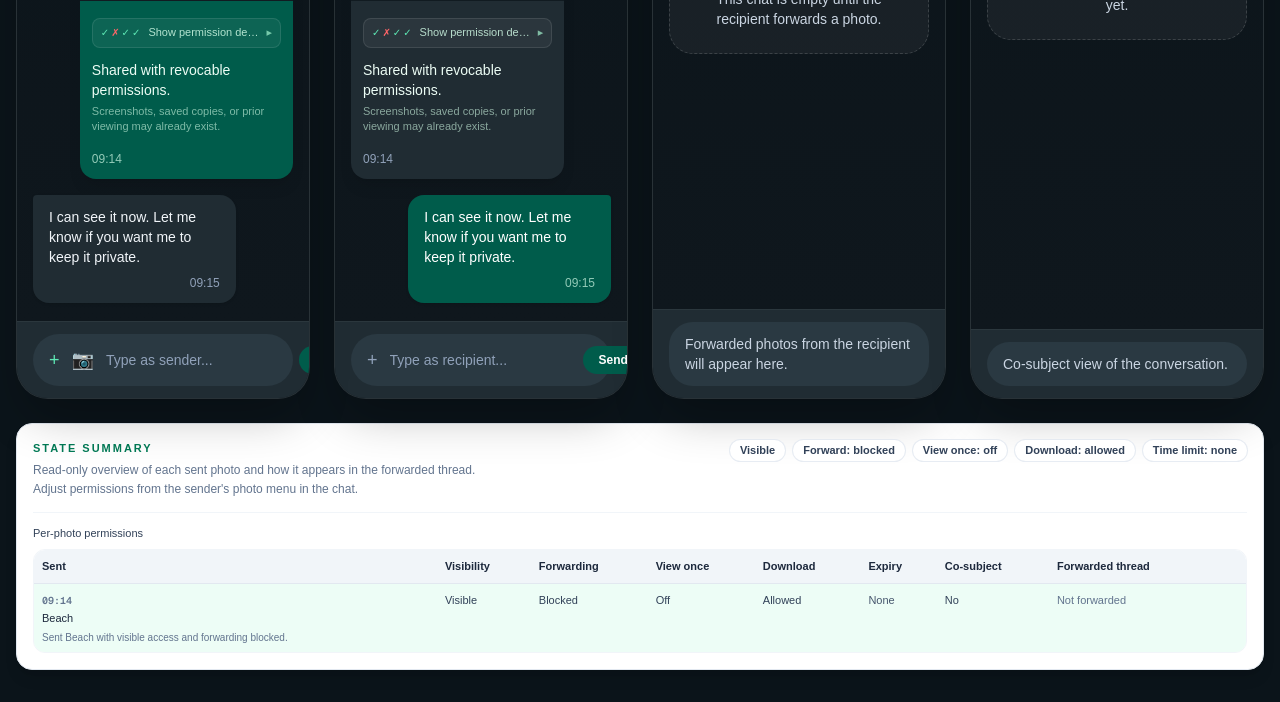
it: PhotoRevocationDemo › opens the composer and sends a configured preset photo
The image size is (1280, 702).
(page scrolled)
What coordinates should you click on to do the following:
click the button named "Open photo actions"
I would click on:
 (54, 360)
Its box is [49,346,60,374].
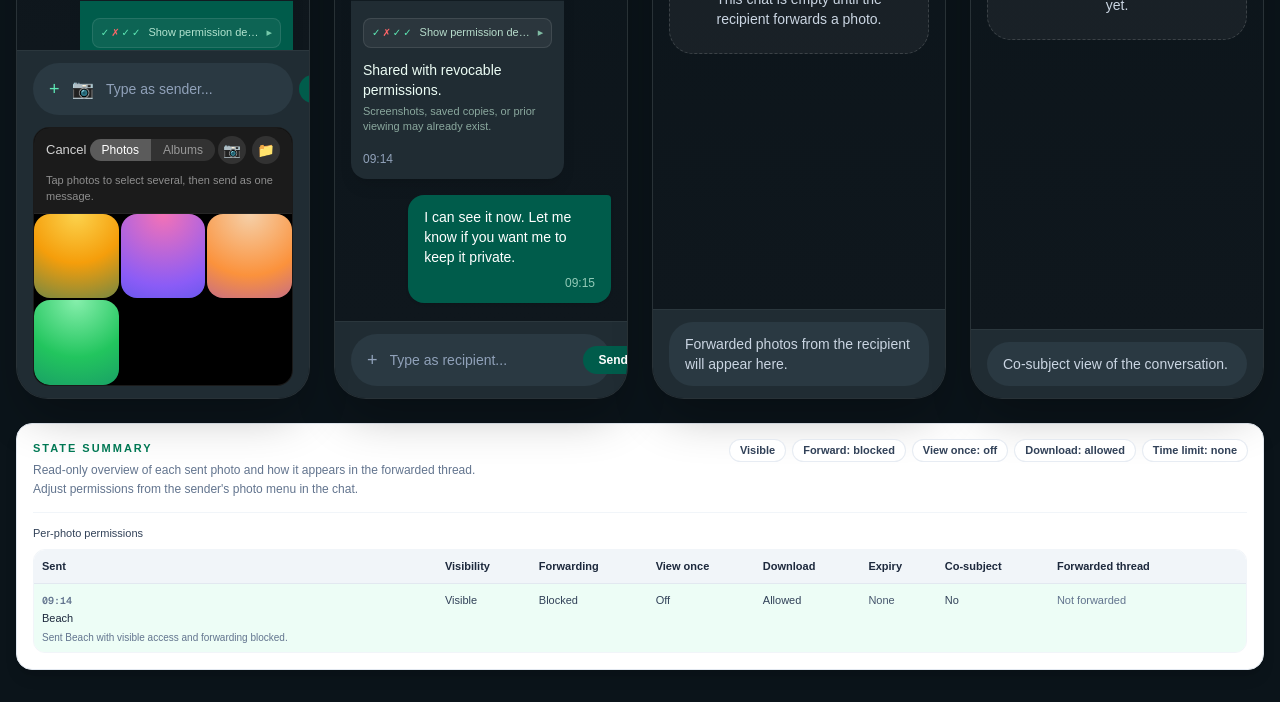
Result: the element "Cancel" is shown at [33,127,293,386]
Result: the button "Sample photo Beach" below "Albums" is shown
What coordinates should you click on to do the following:
click the button "Sample photo Beach" below "Albums"
I would click on:
 (76, 256)
Its box is [34,214,119,298].
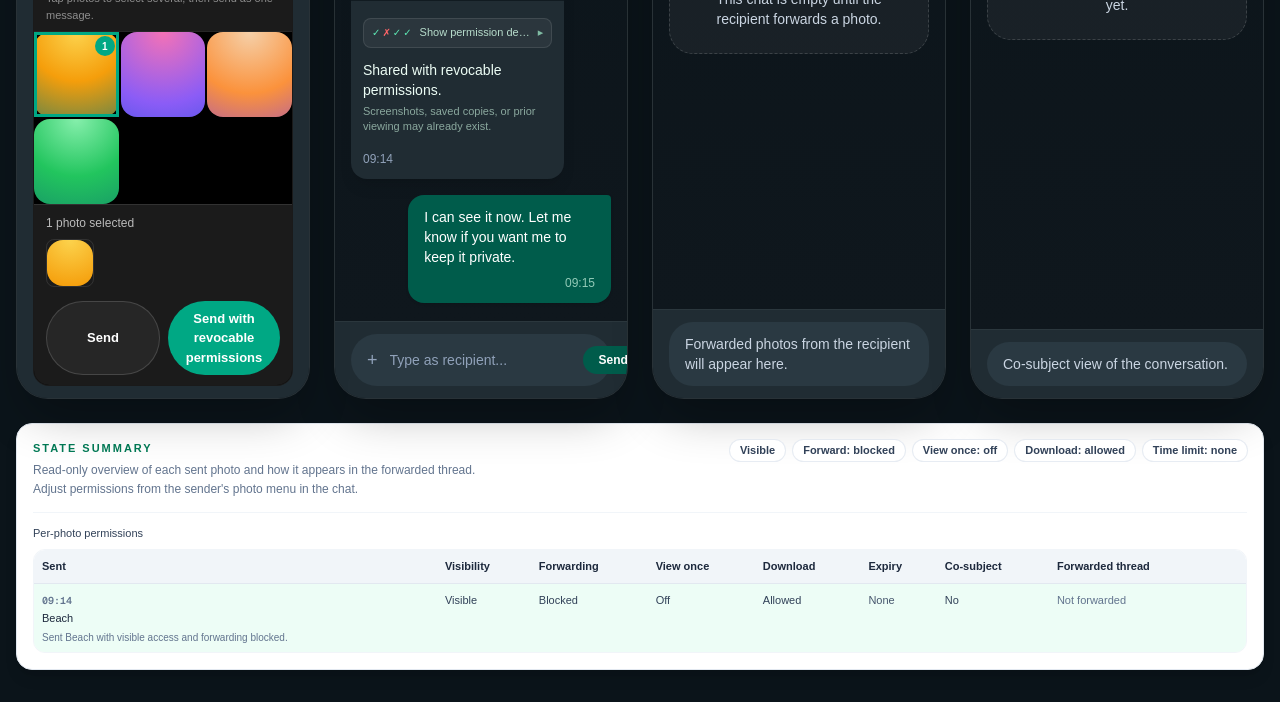
What coordinates should you click on to do the following:
click the button "Send with revocable permissions"
I would click on:
 (224, 338)
Its box is [168,300,280,375].
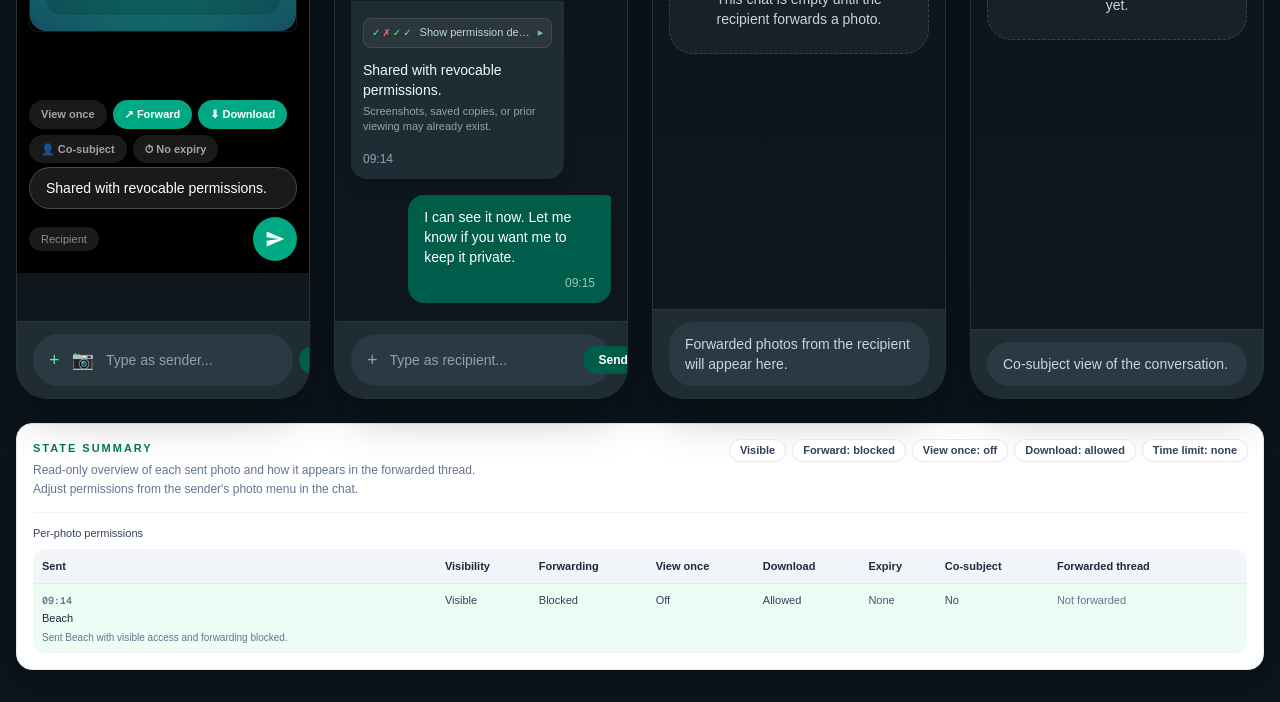
What coordinates should you click on to do the following:
click the button named "Send photo"
I would click on:
 (275, 239)
Its box is [253,217,297,261].
(page scrolled)
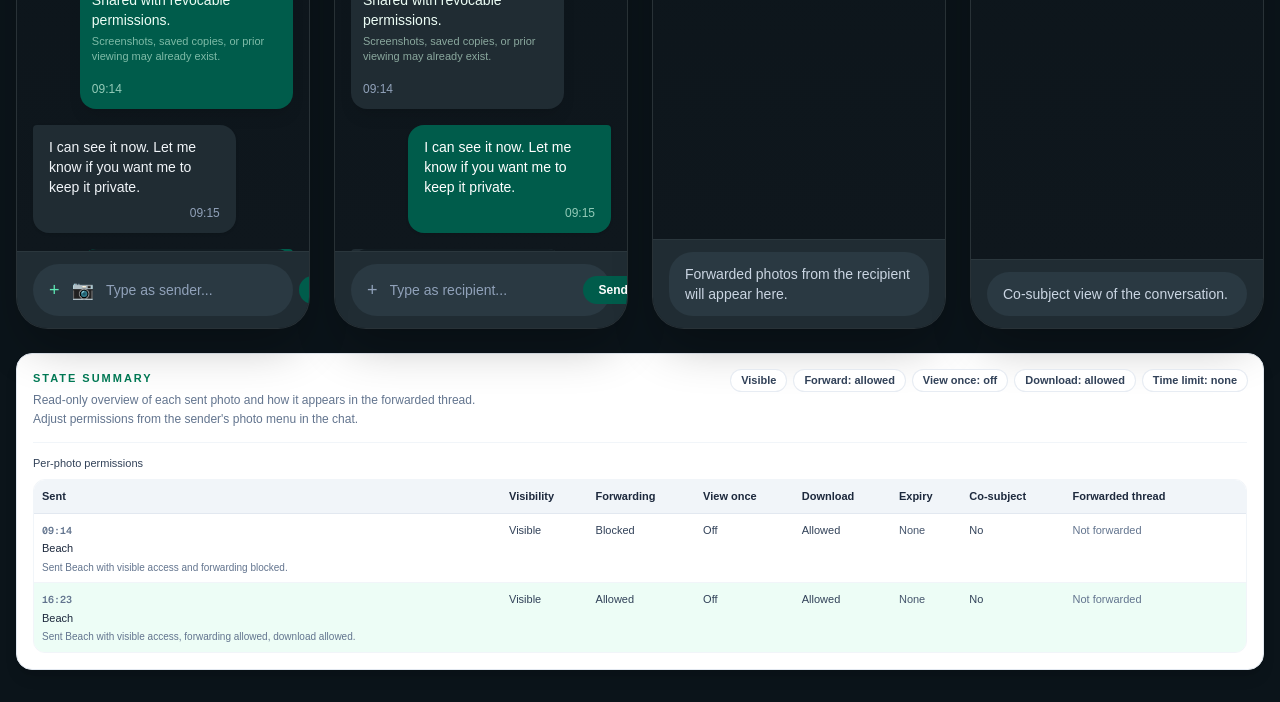
Result: the text "Sent Beach with visible access, forwarding allowed, download allowed." is shown at [42,631,356,642]
